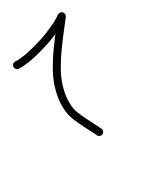t: (10, 9, 54, 75)
